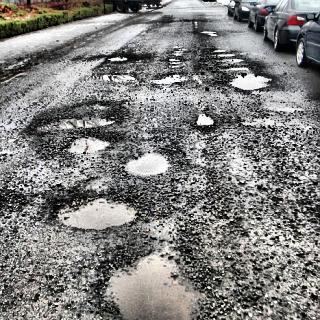pothole: (94, 242, 208, 320), (47, 190, 140, 233), (37, 96, 122, 134), (217, 64, 274, 94), (154, 44, 192, 88), (122, 146, 173, 178), (96, 51, 140, 83), (61, 134, 111, 158), (206, 48, 251, 64), (190, 109, 218, 129), (196, 28, 224, 40)
